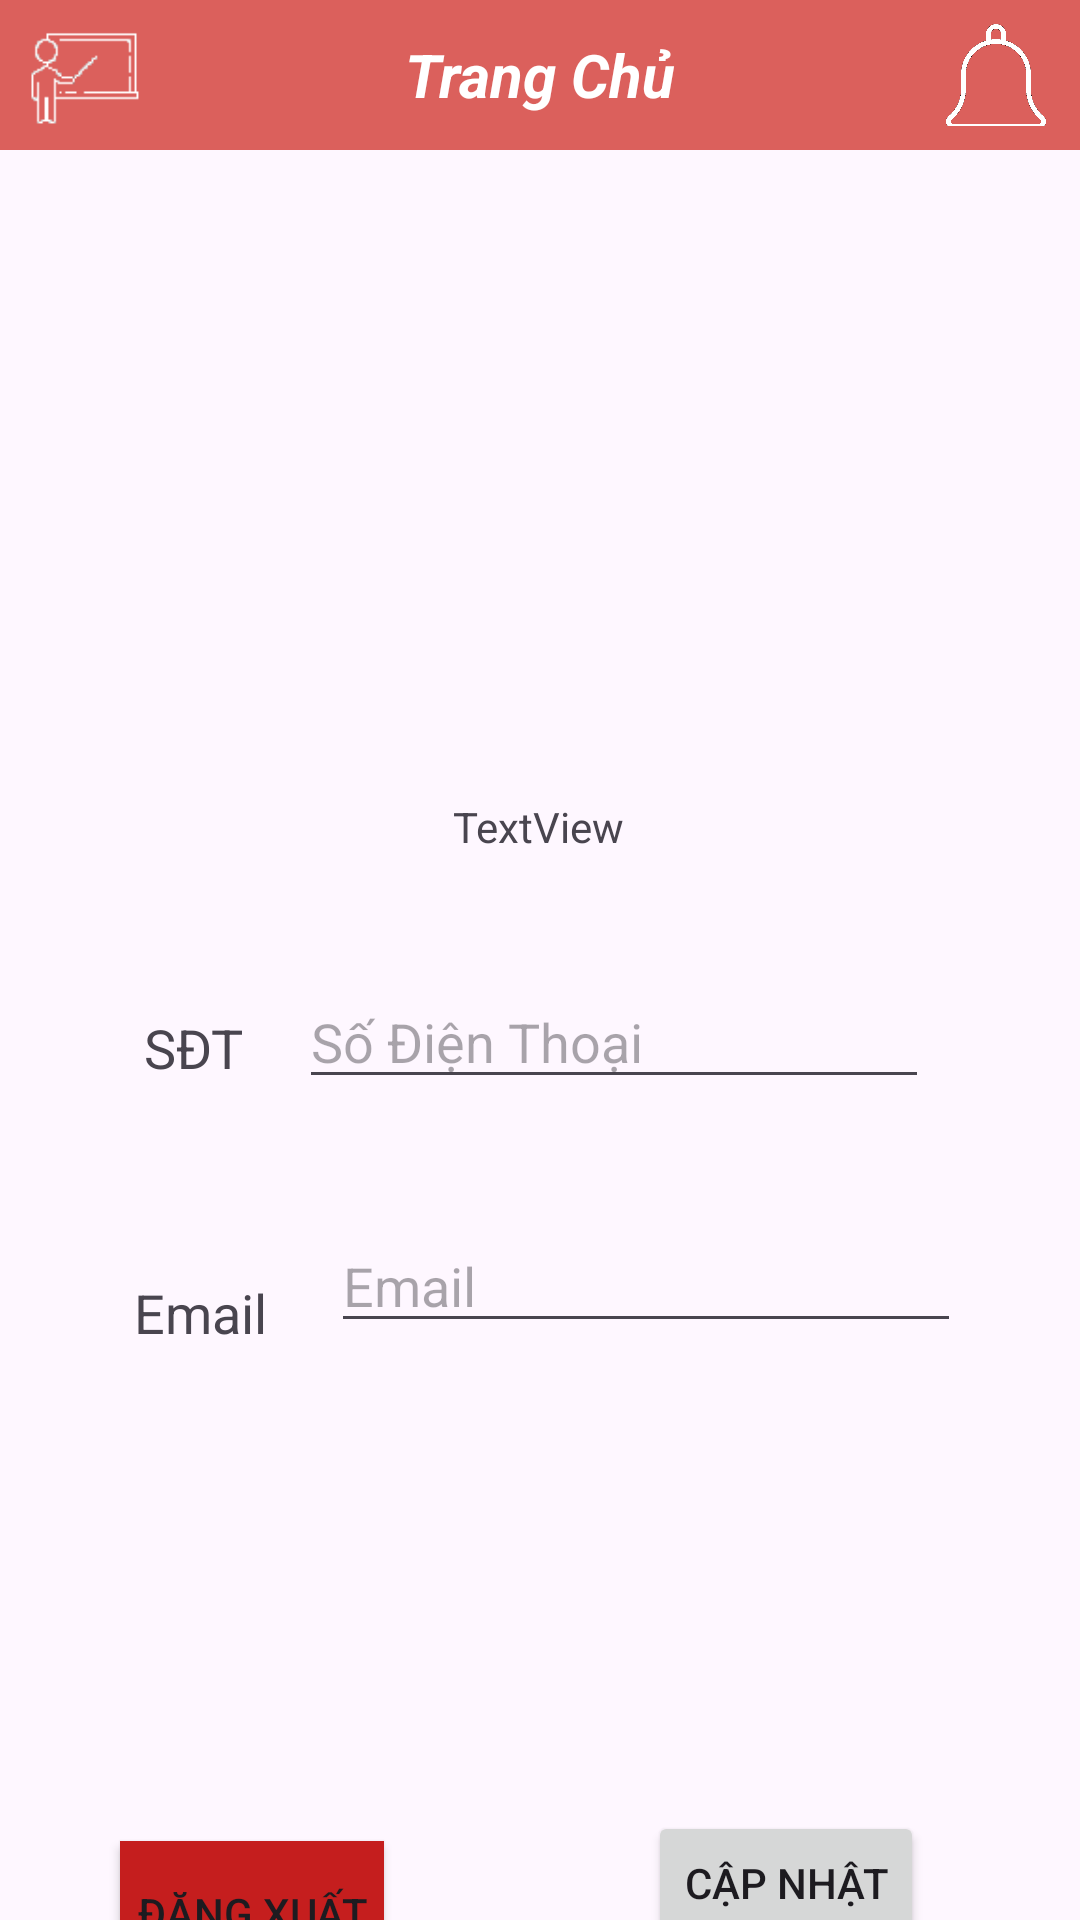

Named icons in this screenshot (1080px x 1920px) and their bounding boxes, (x1, y1, x2, y2):
bell: (946, 24, 1046, 126)
